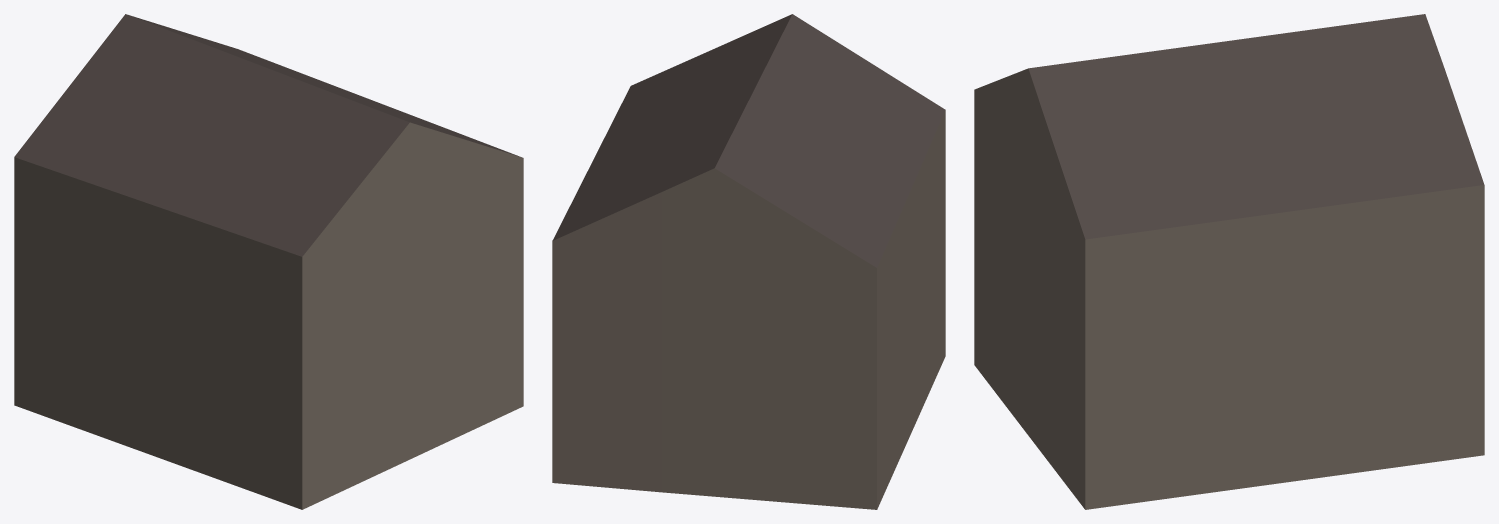
3 views of the same model, side by side, from view 1: azimuth 30°, elevation 25°; view 2: azimuth 150°, elevation 25°; view 3: azimuth 270°, elevation 25° (orthographic). The views are drawn at different scales.
Visible parts, largest first — view 1: HP-w1198645109; view 2: HP-w1198645109; view 3: HP-w1198645109.
Part boxes in pixels (x1=…): HP-w1198645109: x1=14, y1=14, x2=523, y2=509; HP-w1198645109: x1=552, y1=14, x2=945, y2=509; HP-w1198645109: x1=974, y1=14, x2=1484, y2=509.
Size of the model in its own units: 9.64 by 8.15 by 10.26.
